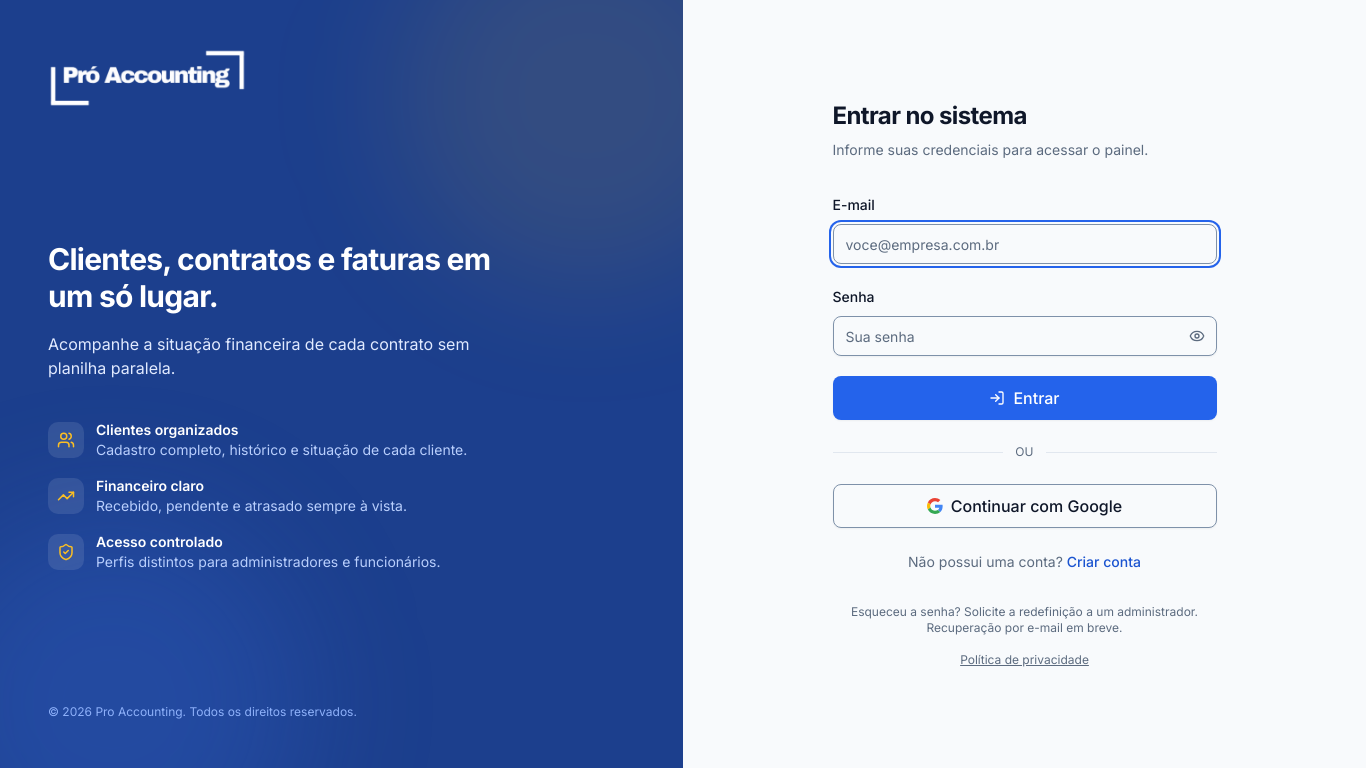
Test: tela de login › se não for possível abrir o Google, avisa e libera o botão de novo
Click the button "Continuar com Google" at x=1024, y=506, box 832,484 -> 1216,528
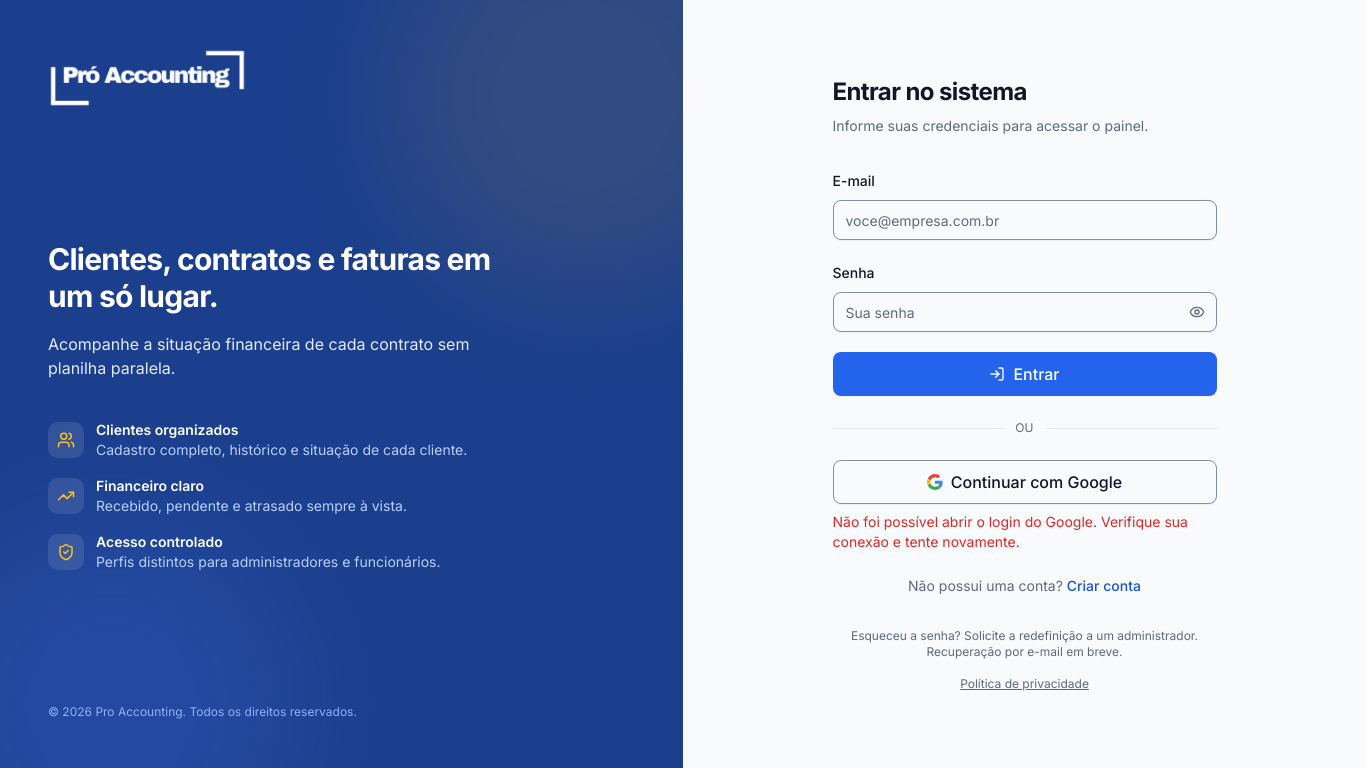
Check: the button "Continuar com Google" is enabled, box 832,460 -> 1216,504
Check: the text "Não foi possível abrir o login do Google" is shown, box 832,513 -> 1188,550
